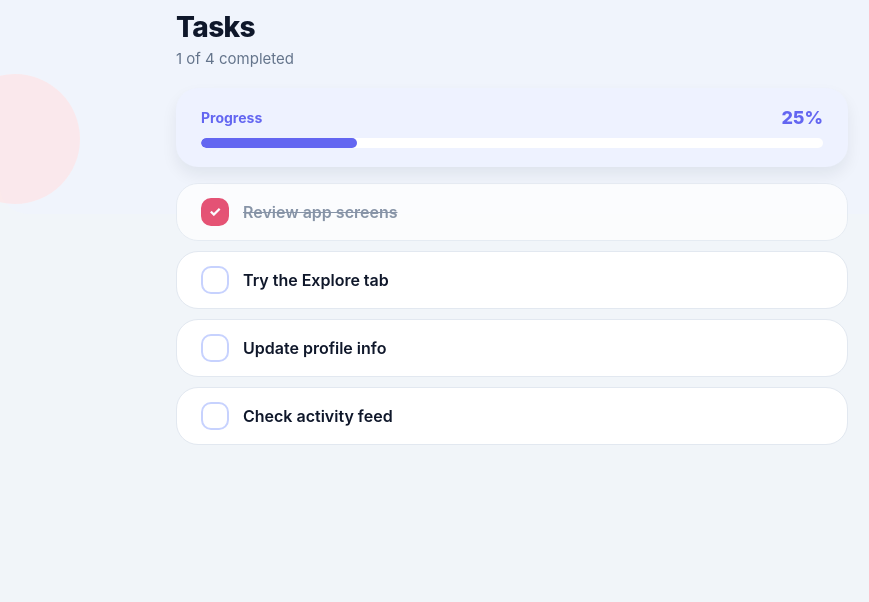
Scenario: TasksScreen › hides the all-done card again after un-toggling a task
Step 1. Click the button "Try the Explore tab" → {"x": 512, "y": 280}, box [176,251,848,309]
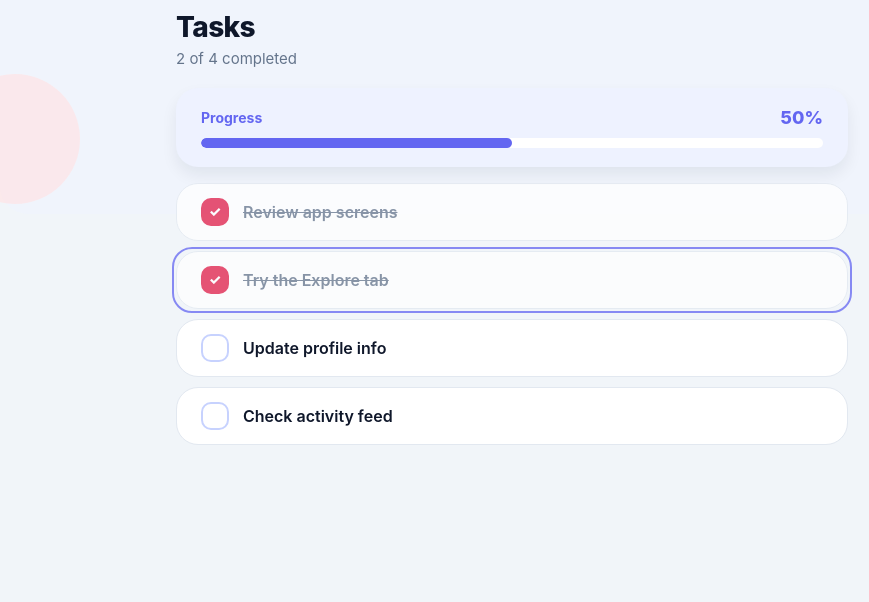
Step 2. Click the button "Update profile info" → {"x": 512, "y": 348}, box [176,319,848,377]
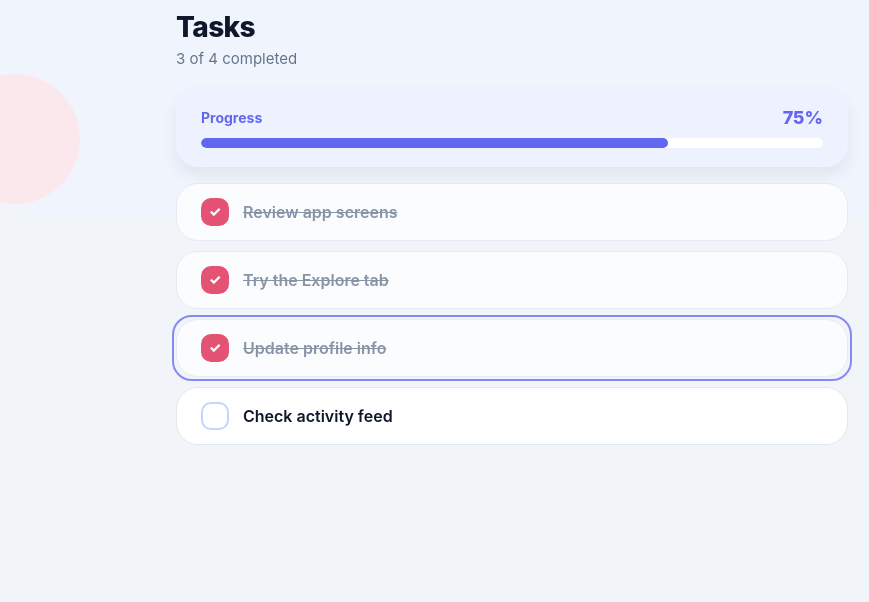
Step 3. Click the button "Check activity feed" → {"x": 512, "y": 416}, box [176,387,848,445]
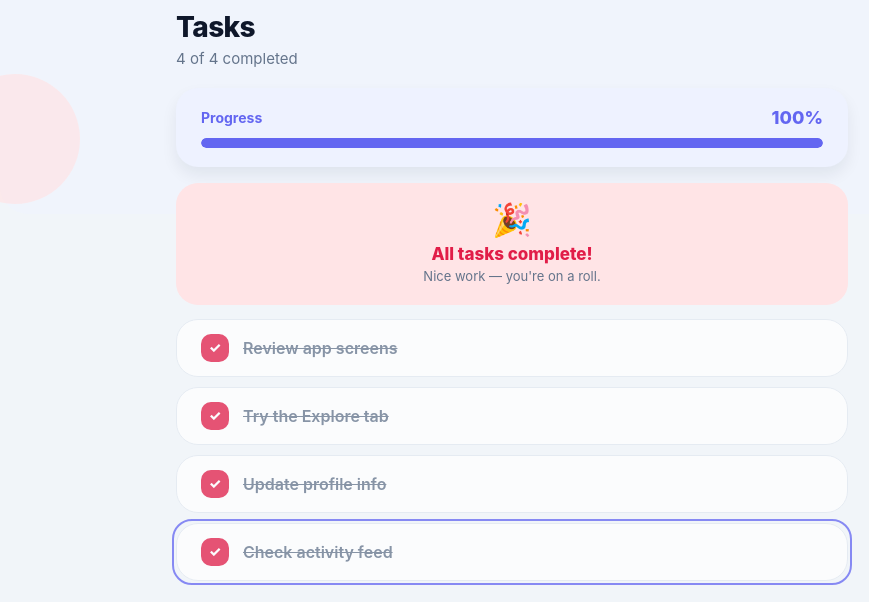
Expected: the text "All tasks complete!" is shown, [431,244,593,264]
Step 4. Click the button "✓ Check activity feed" → {"x": 512, "y": 552}, box [176,523,848,581]
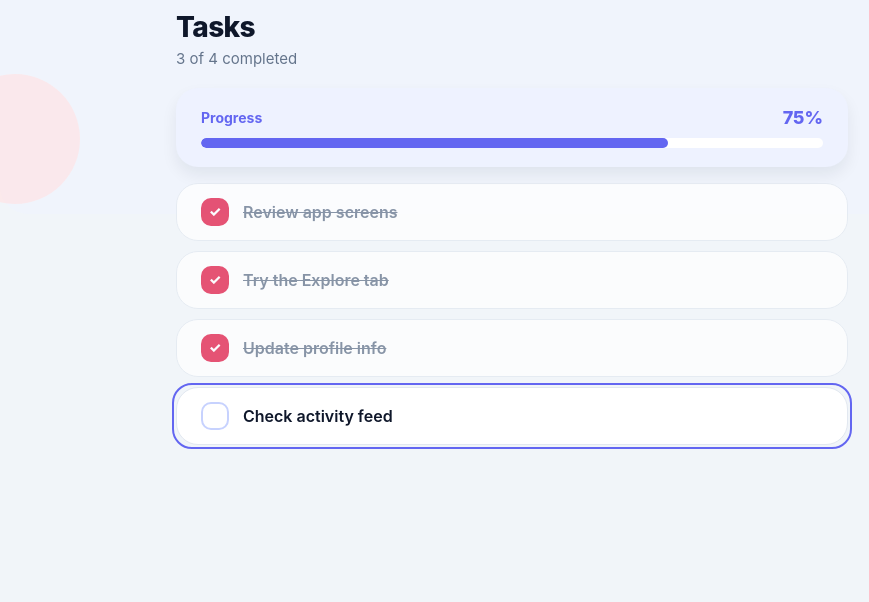
Expected: the text "All tasks complete!" is gone
Expected: the text "75%" is shown, [783,107,823,128]
